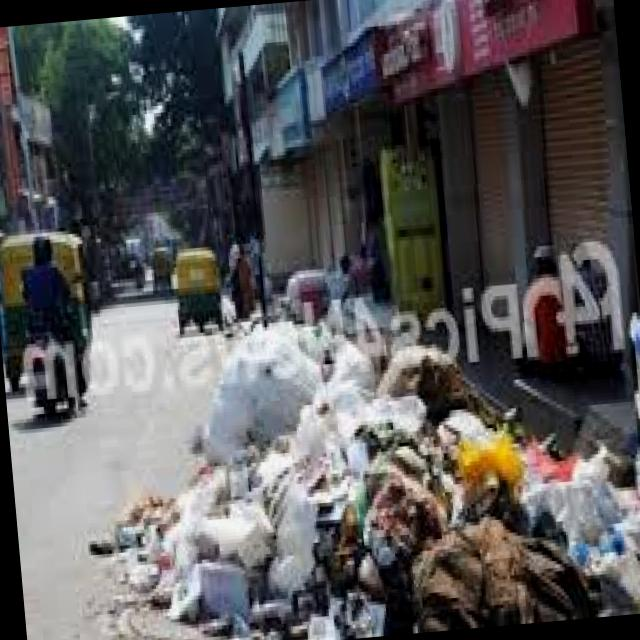garbage: (120, 321, 635, 640)
